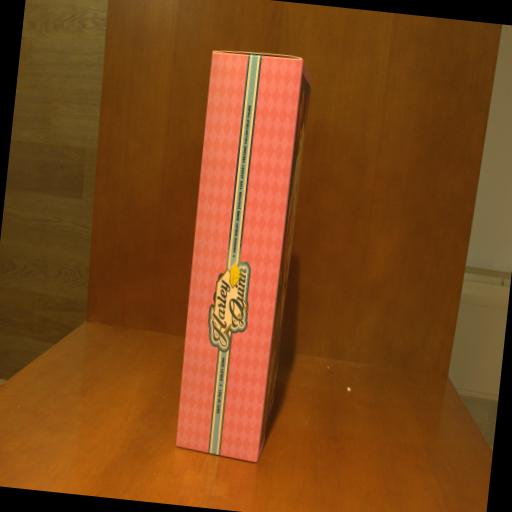Harley: (169, 48, 315, 466)
